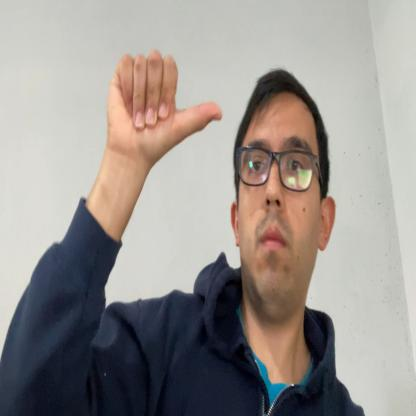A: (108, 50, 223, 160)
